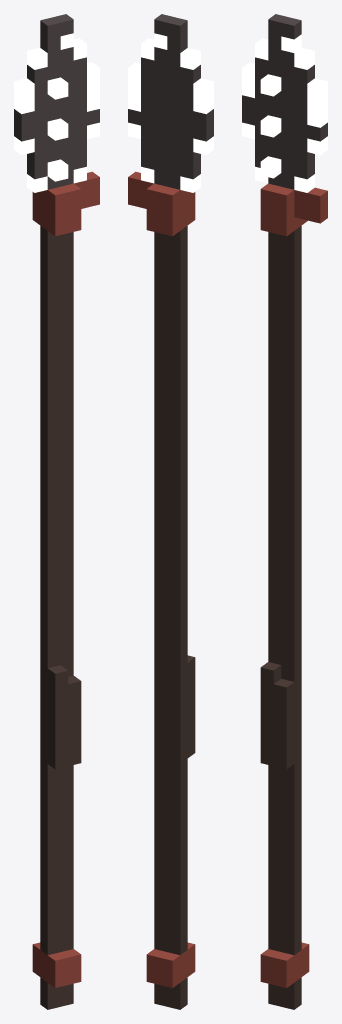
The model's file is spear_masterwork_lod1.glb.
The picture shows the model from 3 angles, left to right: view 1: azimuth 30°, elevation 25°; view 2: azimuth 150°, elevation 25°; view 3: azimuth 330°, elevation 25°; orthographic projection.
Parts seen in each view (by area): view 1: spear_masterwork_lod1; view 2: spear_masterwork_lod1; view 3: spear_masterwork_lod1.
Part boxes in pixels (left/top/right/bottom): spear_masterwork_lod1: left=14, top=14, right=99, bottom=1009; spear_masterwork_lod1: left=128, top=14, right=213, bottom=1009; spear_masterwork_lod1: left=242, top=14, right=327, bottom=1009.
Bounding box in the file's own units: 0.18 × 2.16 × 0.09.
